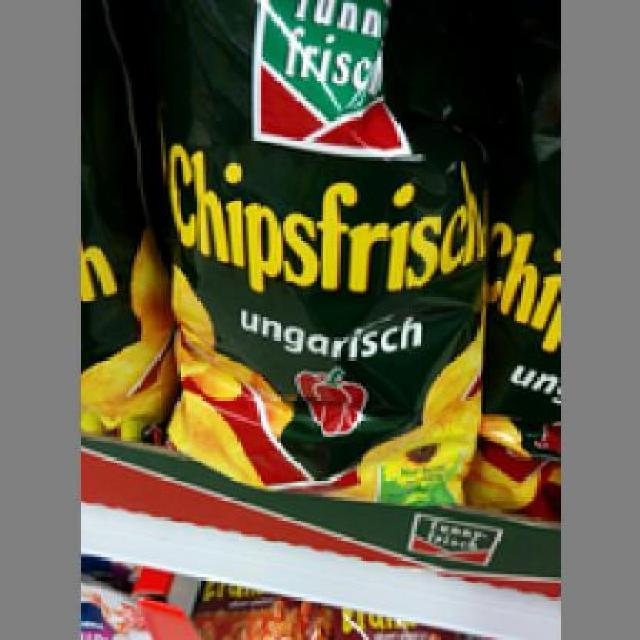Chips: (146, 0, 488, 506)
